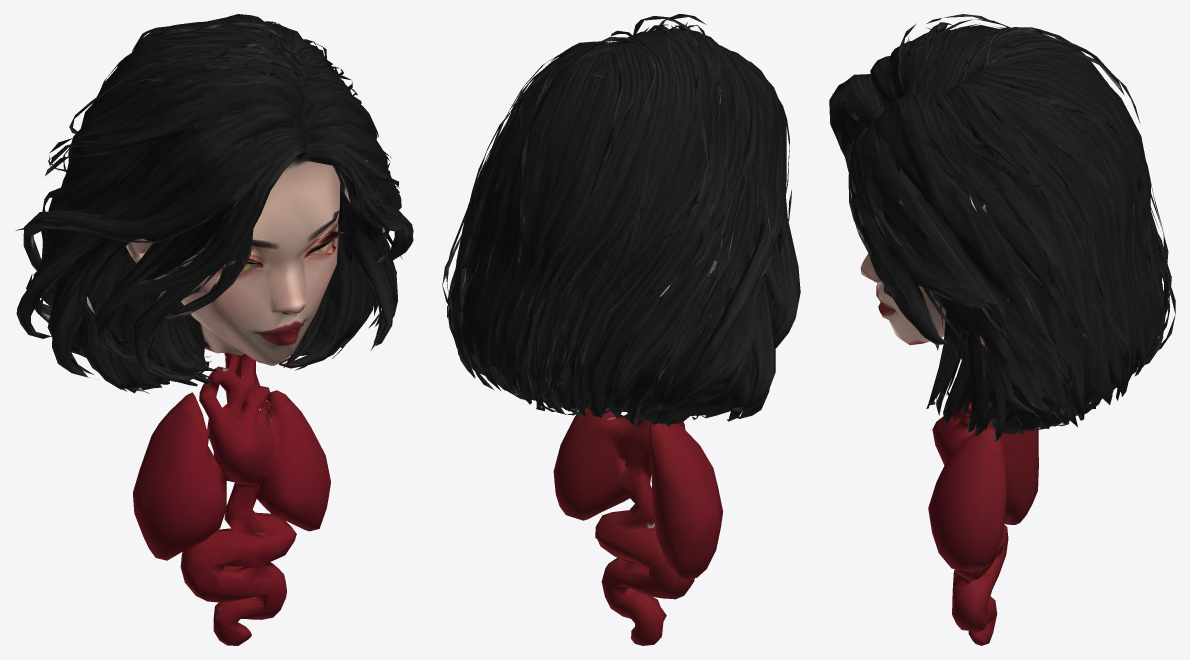
The model's file is krasue.glb.
3 renders of one model, left to right at view 1: azimuth 30°, elevation 25°; view 2: azimuth 150°, elevation 25°; view 3: azimuth 270°, elevation 25°, orthographic.
Parts seen in each view (by area): view 1: krasueSource; view 2: krasueSource; view 3: krasueSource.
Part boxes in pixels (left/top/right/bottom): krasueSource: left=15, top=14, right=413, bottom=645; krasueSource: left=442, top=14, right=800, bottom=645; krasueSource: left=829, top=14, right=1175, bottom=645.
Bounding box in the file's own units: 1.12 × 1.9 × 0.9728.
Materials: 1 (1 with a texture image).
